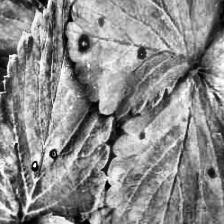Leaf Spot: (0, 0, 112, 224), (64, 0, 219, 119), (104, 73, 224, 224), (196, 12, 224, 224)
